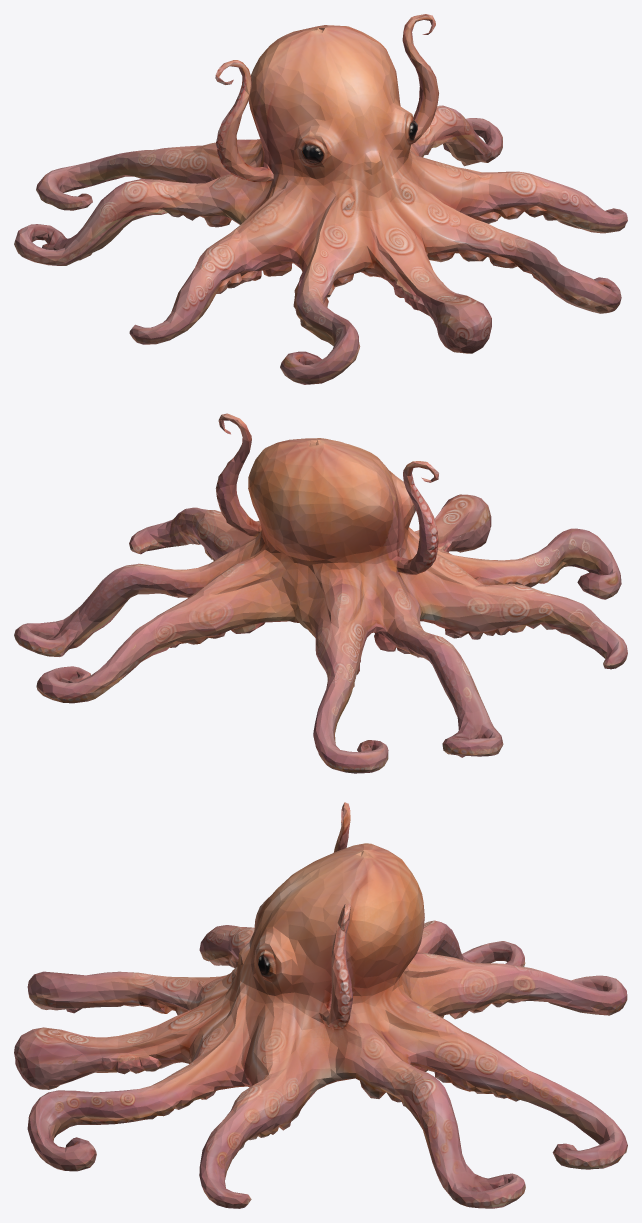
Rendered from octopus.glb.
3 renders of one model, top to bottom at view 1: azimuth 30°, elevation 25°; view 2: azimuth 150°, elevation 25°; view 3: azimuth 270°, elevation 25°, orthographic. The views are drawn at different scales.
Parts seen in each view (by area): view 1: temp; view 2: temp; view 3: temp.
Part boxes in pixels (x1=…): temp: x1=14, y1=14, x2=627, y2=384; temp: x1=14, y1=413, x2=627, y2=773; temp: x1=14, y1=802, x2=627, y2=1208.
Bounding box in the file's own units: 2 × 0.8609 × 1.99.
1 material, 1 textured.
